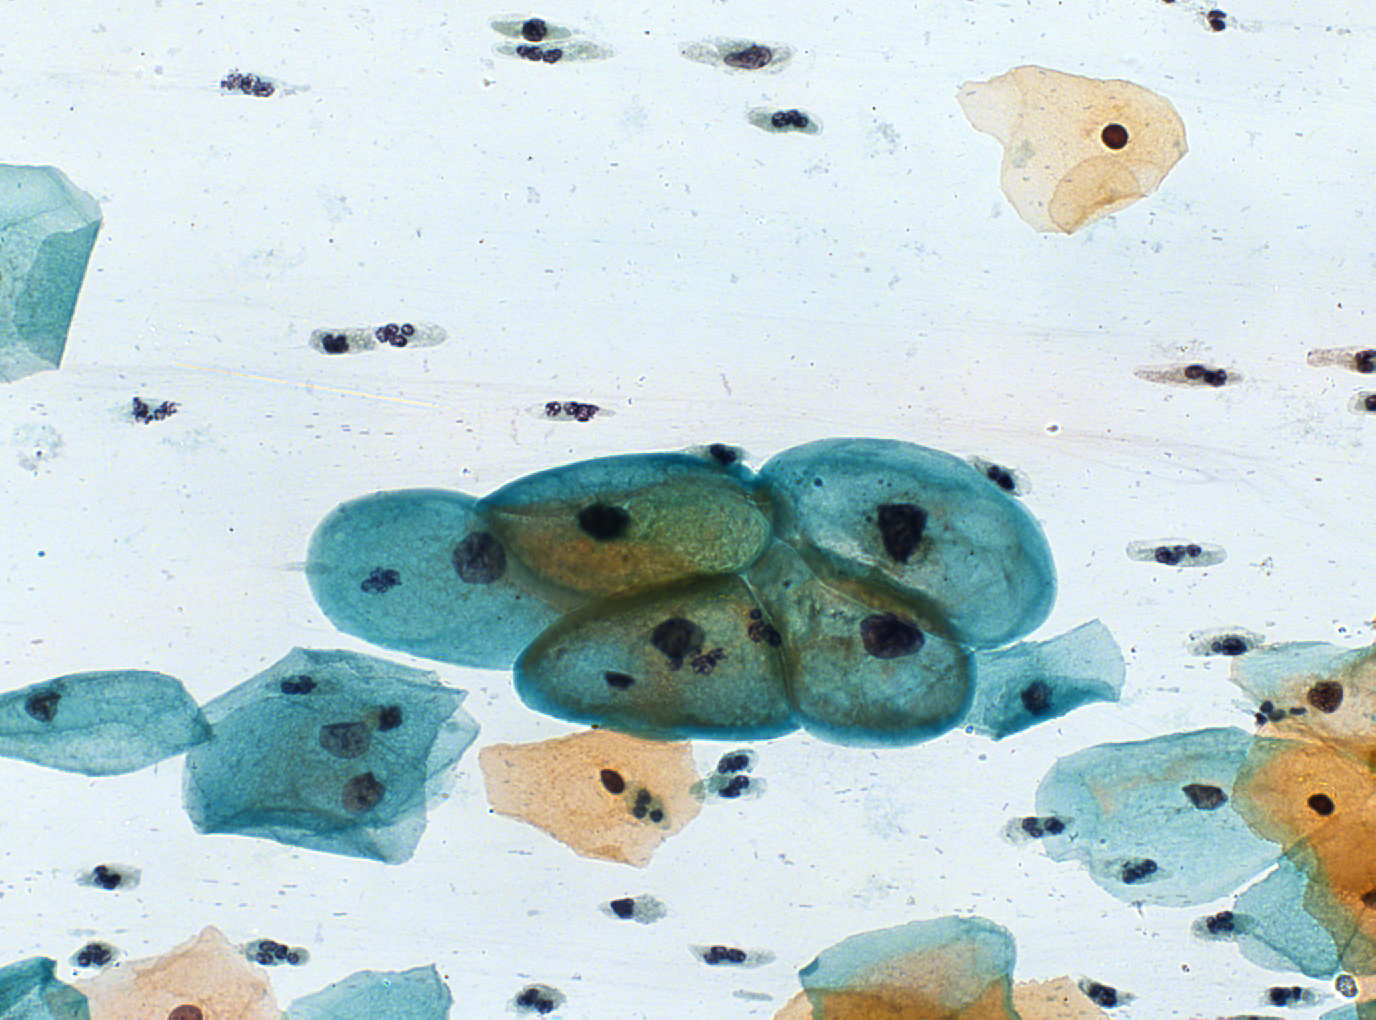Abn: (873, 497, 930, 573), (853, 611, 926, 663), (450, 531, 510, 587), (646, 613, 708, 665), (572, 502, 635, 545)
